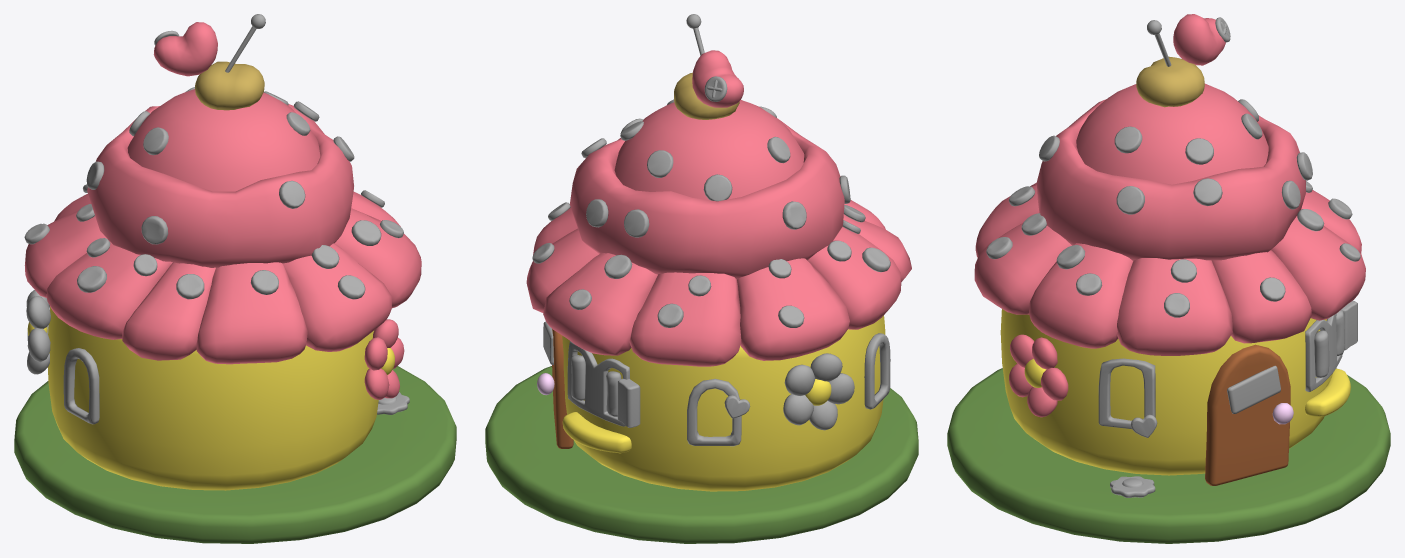
File: Global_HouseCake_Fix01.fbx
The picture shows the model from 3 angles, left to right: view 1: azimuth 30°, elevation 25°; view 2: azimuth 150°, elevation 25°; view 3: azimuth 270°, elevation 25°; orthographic projection. The views are drawn at different scales.
Parts seen in each view (by area): view 1: S_HouseCake_10, S_HouseCake_9, S_HouseCake_1, M_HouseCake_14, M_HouseCake_11, M_HouseCake_19, M_HouseCake_20, M_HouseCake_12, M_HouseCake_16, M_HouseCake_6, M_HouseCake_17, M_HouseCake_18 (+13 smaller); view 2: S_HouseCake_9, S_HouseCake_10, S_HouseCake_1, M_HouseCake_14, M_HouseCake_8, M_HouseCake_6, M_HouseCake_15, M_HouseCake_20, M_HouseCake_13, D_MotorBike_47, M_HouseCake_18, D_MotorBike_51 (+22 smaller); view 3: S_HouseCake_9, S_HouseCake_10, S_HouseCake_1, M_HouseCake_14, M_HouseCake_5, M_HouseCake_22, M_HouseCake_16, M_HouseCake_13, M_HouseCake_15, M_HouseCake_19, M_HouseCake_17, M_HouseCake_18 (+18 smaller).
Boxes of the visible parts, x1,y1,x2,y2 form: S_HouseCake_10: [48, 306, 378, 490]; S_HouseCake_9: [14, 366, 456, 543]; S_HouseCake_1: [87, 104, 353, 267]; M_HouseCake_14: [127, 89, 320, 191]; M_HouseCake_11: [196, 262, 307, 364]; M_HouseCake_19: [282, 243, 392, 351]; M_HouseCake_20: [46, 239, 172, 339]; M_HouseCake_12: [122, 262, 215, 360]; M_HouseCake_16: [334, 208, 421, 308]; M_HouseCake_6: [24, 210, 107, 297]; M_HouseCake_17: [195, 61, 264, 110]; M_HouseCake_18: [153, 22, 217, 76]; S_HouseCake_9: [485, 366, 918, 543]; S_HouseCake_10: [562, 315, 885, 491]; S_HouseCake_1: [569, 118, 844, 279]; M_HouseCake_14: [614, 100, 804, 200]; M_HouseCake_8: [629, 272, 741, 366]; M_HouseCake_6: [737, 258, 849, 360]; M_HouseCake_15: [543, 253, 657, 355]; M_HouseCake_20: [807, 227, 901, 329]; M_HouseCake_13: [526, 228, 598, 312]; D_MotorBike_47: [567, 341, 629, 426]; M_HouseCake_18: [692, 50, 743, 107]; D_MotorBike_51: [687, 378, 741, 446]; S_HouseCake_9: [947, 368, 1390, 543]; S_HouseCake_10: [1000, 309, 1332, 475]; S_HouseCake_1: [1036, 99, 1305, 260]; M_HouseCake_14: [1076, 83, 1268, 184]; M_HouseCake_5: [1117, 258, 1232, 355]; M_HouseCake_22: [1205, 344, 1290, 485]; M_HouseCake_16: [1029, 243, 1133, 348]; M_HouseCake_13: [1211, 250, 1311, 343]; M_HouseCake_15: [1271, 216, 1365, 320]; M_HouseCake_19: [974, 223, 1071, 314]; M_HouseCake_17: [1136, 56, 1204, 107]; M_HouseCake_18: [1173, 14, 1225, 65].
Bounding box in the file's own units: 256 × 281 × 256.
